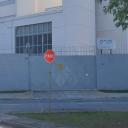Pare: (45, 50, 55, 62)
